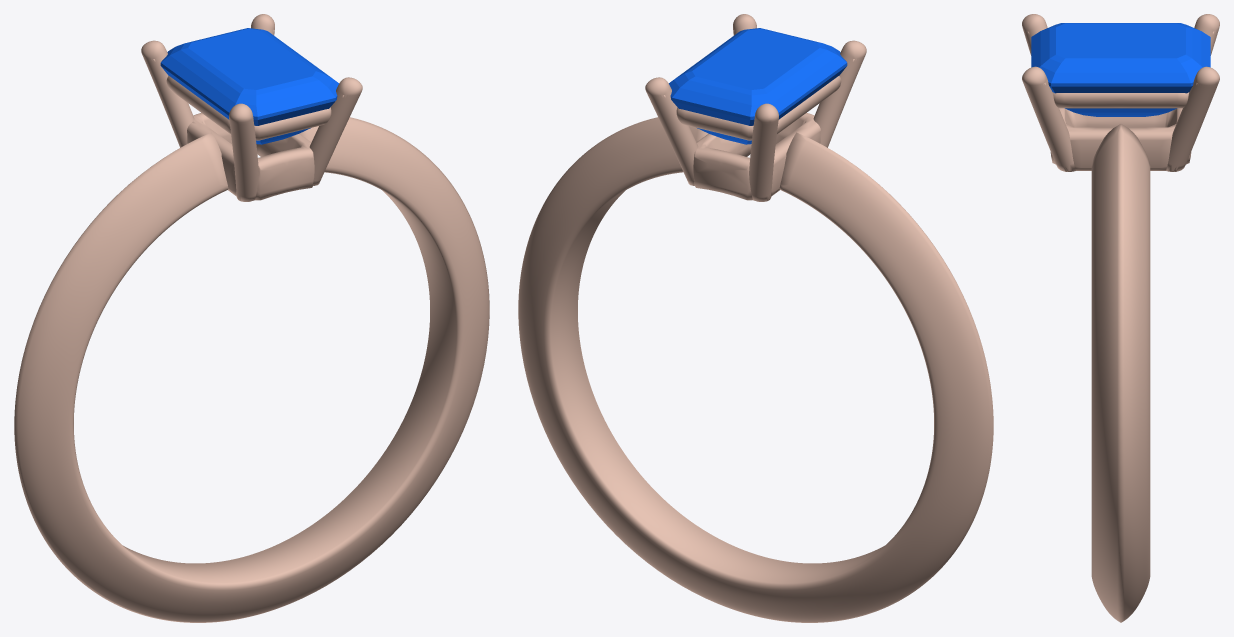
File: bluesapphire-emerald-rosegold-4prong-knifeedge-solitaire.glb
3 views of the same model, side by side, from view 1: azimuth 30°, elevation 25°; view 2: azimuth 150°, elevation 25°; view 3: azimuth 270°, elevation 25° (orthographic).
Parts seen in each view (by area): view 1: metal, stone; view 2: metal, stone; view 3: metal, stone.
Boxes of the visible parts, box(x1,y1,x2,y2) form: metal: box(14, 14, 489, 622); stone: box(160, 28, 338, 144); metal: box(518, 14, 993, 622); stone: box(669, 28, 847, 144); metal: box(1022, 14, 1219, 622); stone: box(1031, 23, 1210, 116).
Size of the model in its own units: 20.5 by 22.94 by 7.4.
